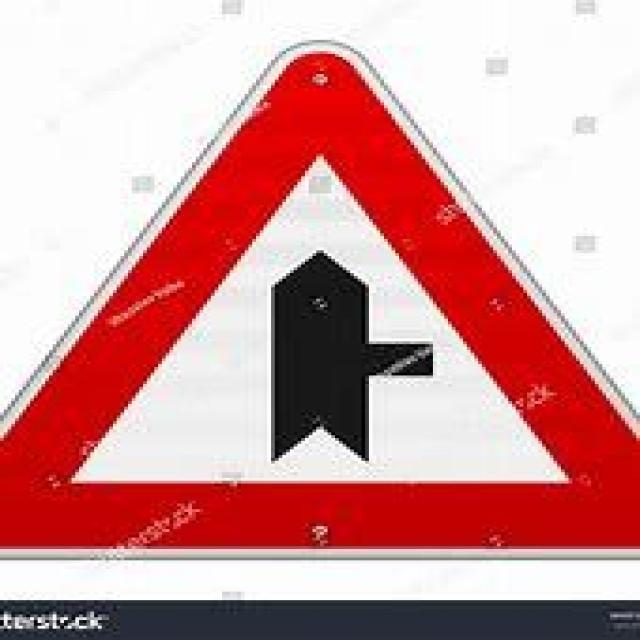side road right: (20, 48, 615, 548)
